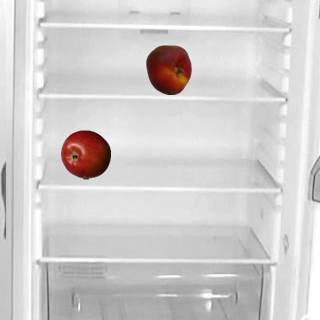Apple Braeburn: (60, 129, 110, 179)
Nectarine Flat: (143, 44, 193, 94)
